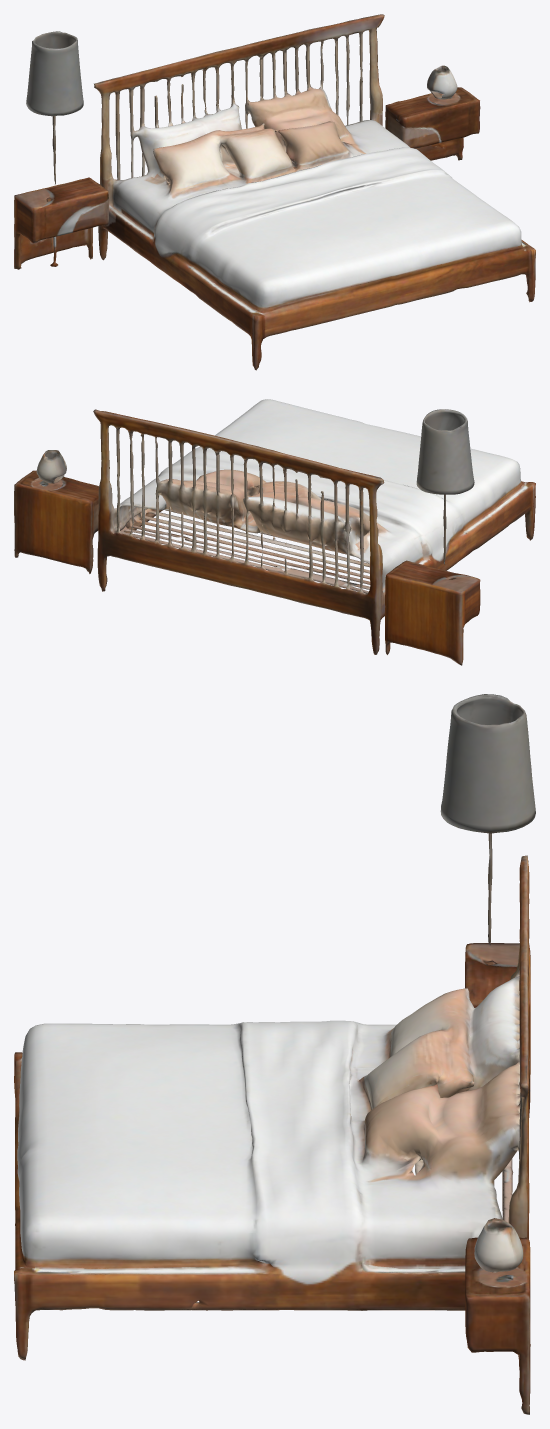
The picture shows the model from 3 angles, top to bottom: view 1: azimuth 30°, elevation 25°; view 2: azimuth 150°, elevation 25°; view 3: azimuth 270°, elevation 25°; orthographic projection. The views are drawn at different scales.
Bounding box in the file's own units: 2 × 1.05 × 1.24.
1 material, 1 textured.
